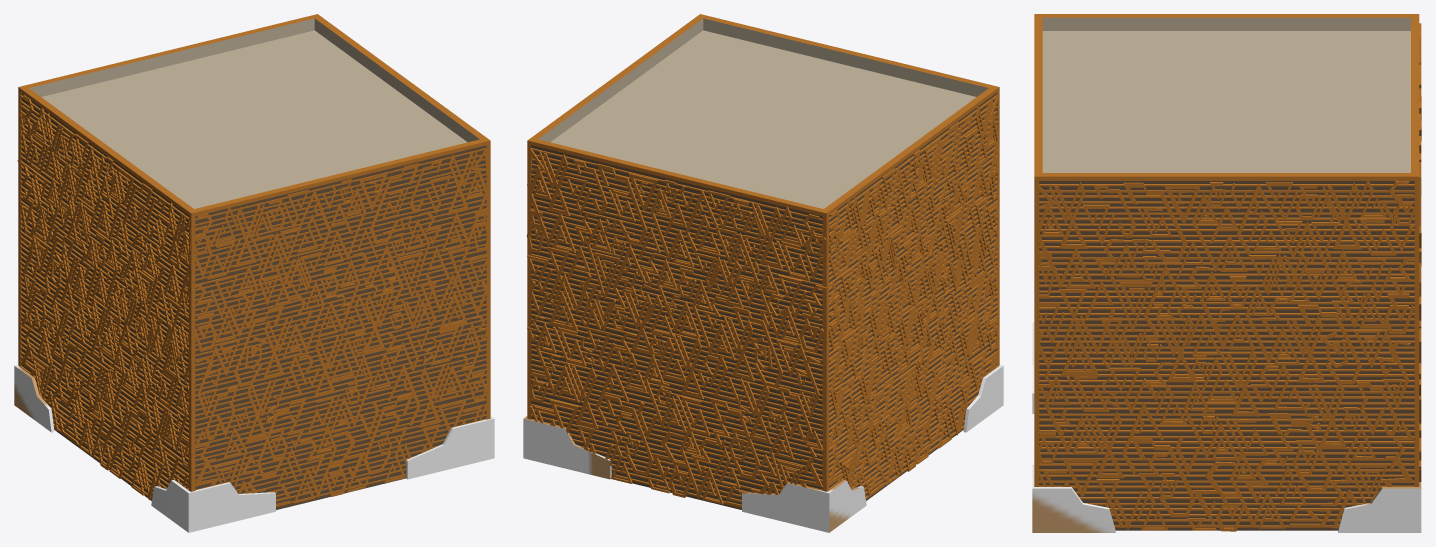
File: SM_Mukaab_MainBody.fbx
3 renders of one model, left to right at view 1: azimuth 30°, elevation 25°; view 2: azimuth 150°, elevation 25°; view 3: azimuth 270°, elevation 25°, orthographic. The views are drawn at different scales.
Parts seen in each view (by area): view 1: MUKAAB; view 2: MUKAAB; view 3: MUKAAB.
Boxes of the visible parts, x1,y1,x2,y2 form: MUKAAB: (14,14,494,532); MUKAAB: (523,14,1003,532); MUKAAB: (1032,14,1421,532).
Size of the model in its own units: 40308 by 40043 by 39810.
Materials: 4 (1 with a texture image).
